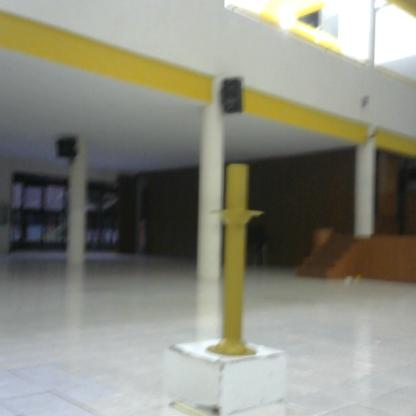pole: (203, 155, 275, 379)
